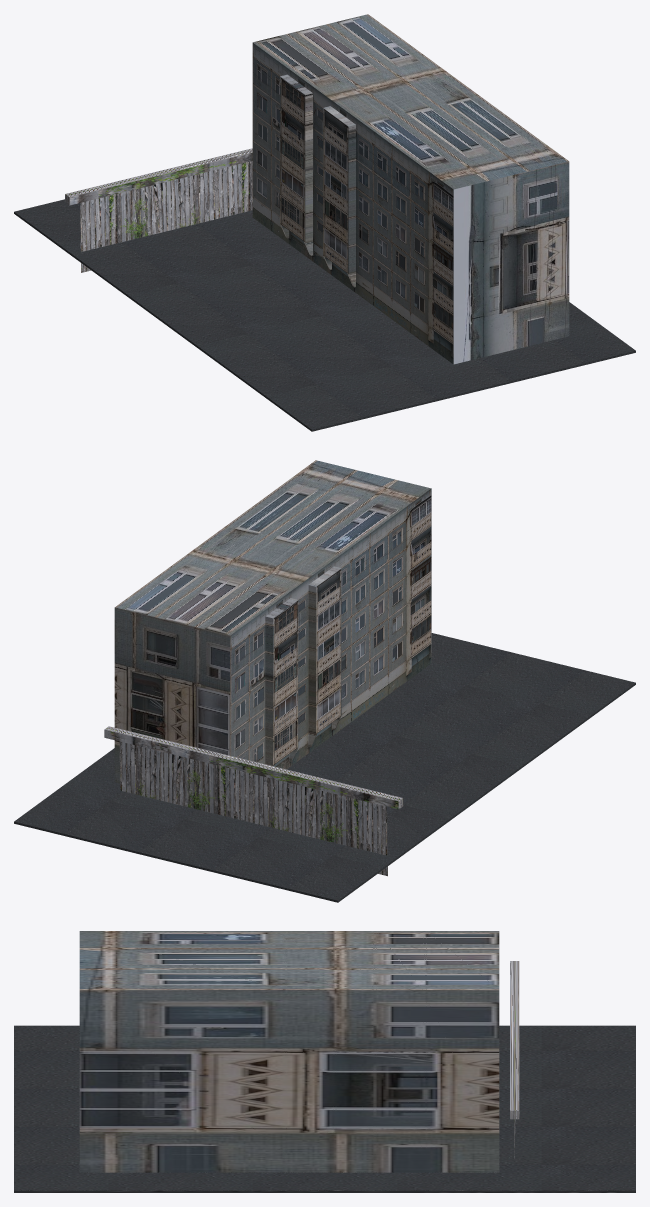
File: houseMENU.fbx
3 renders of one model, top to bottom at view 1: azimuth 30°, elevation 25°; view 2: azimuth 150°, elevation 25°; view 3: azimuth 270°, elevation 25°, orthographic. The views are drawn at different scales.
Visible parts, largest first — view 1: Cube.001, Cube, Plane, Cube.002; view 2: Cube.001, Cube, Plane, Cube.002; view 3: Cube.001, Cube, Cube.002.
Boxes of the visible parts, box(x1,y1,x2,y2) form: Cube.001: box(252, 14, 569, 364); Cube: box(14, 199, 635, 431); Plane: box(80, 161, 252, 272); Cube.002: box(65, 148, 252, 205); Cube.001: box(114, 460, 431, 783); Cube: box(14, 633, 635, 902); Plane: box(119, 741, 387, 876); Cube.002: box(104, 726, 403, 809); Cube.001: box(79, 931, 499, 1172); Cube: box(14, 1025, 635, 1192); Cube.002: box(510, 961, 519, 1119).
Bounding box in the file's own units: 3343 × 1900 × 5245.
